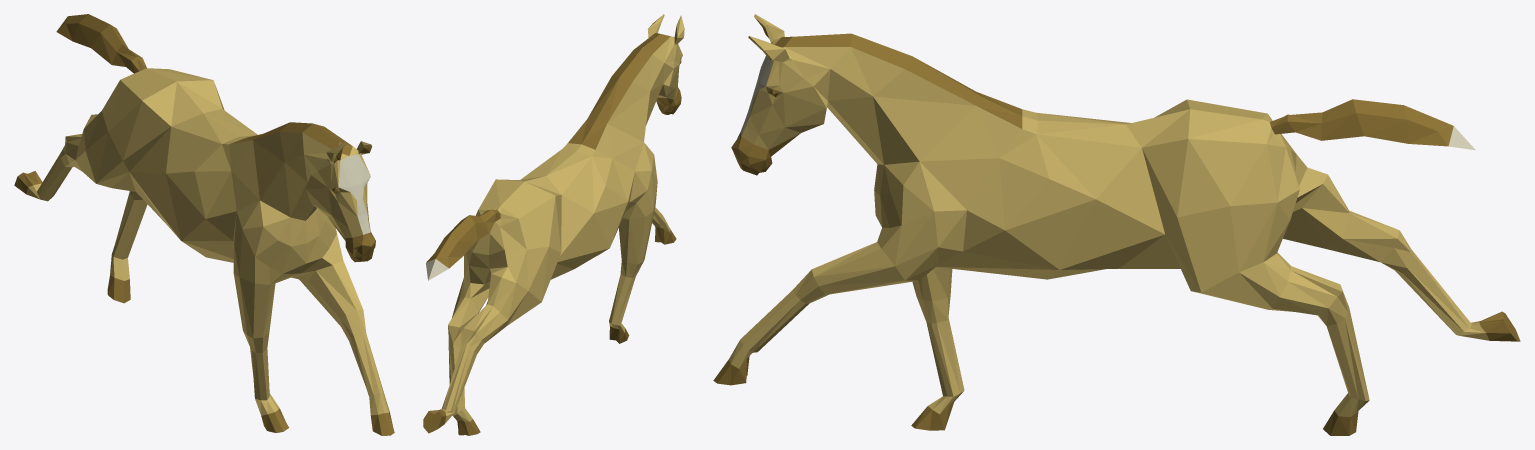
Rendered from Horse_golden_v1_fast_gallop.glb.
3 views of the same model, side by side, from view 1: azimuth 30°, elevation 25°; view 2: azimuth 150°, elevation 25°; view 3: azimuth 270°, elevation 25° (orthographic). The views are drawn at different scales.
Size of the model in its own units: 61.1 by 182 by 322.
